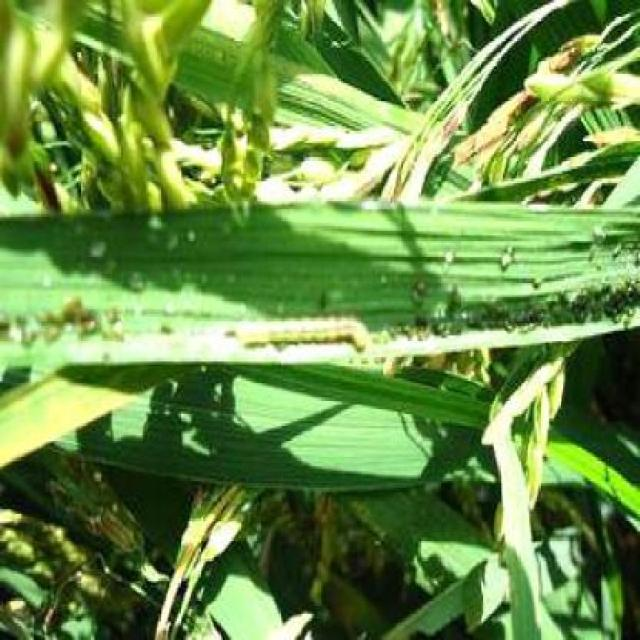leaf-folder: (234, 290, 364, 370)
